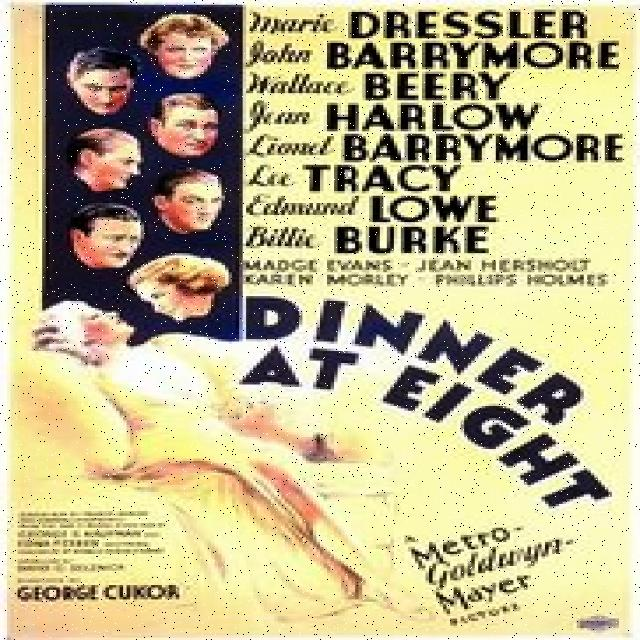movie-judul: (240, 296, 614, 510)
picture: (48, 4, 358, 633)
